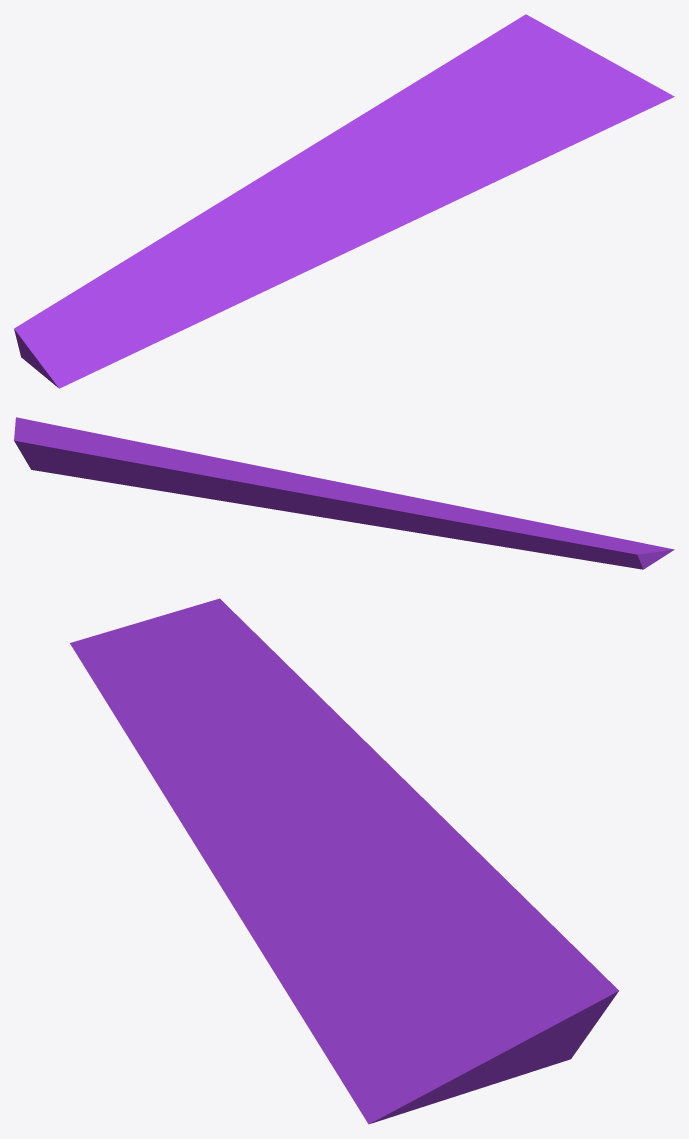
File: Window_144_1_chunks.fbx
The picture shows the model from 3 angles, top to bottom: view 1: azimuth 30°, elevation 25°; view 2: azimuth 150°, elevation 25°; view 3: azimuth 270°, elevation 25°; orthographic projection. The views are drawn at different scales.
Parts seen in each view (by area): view 1: Window_144_1_1, Window_144_1_6, Window_144_1_3, Window_144_1_5, Window_144_1_0, Window_144_1_2; view 2: Window_144_1_1, Window_144_1_2, Window_144_1_6, Window_144_1_3, Window_144_1_5, Window_144_1_0; view 3: Window_144_1_1, Window_144_1_6, Window_144_1_3, Window_144_1_5, Window_144_1_0, Window_144_1_2.
Boxes of the visible parts, x1,y1,x2,y2 form: Window_144_1_1: (14,166,305,388); Window_144_1_6: (388,14,674,132); Window_144_1_3: (292,99,432,222); Window_144_1_5: (393,127,610,224); Window_144_1_0: (194,207,403,324); Window_144_1_2: (279,114,363,178); Window_144_1_1: (315,493,674,569); Window_144_1_2: (22,455,337,519); Window_144_1_6: (14,417,191,473); Window_144_1_3: (181,465,342,493); Window_144_1_5: (86,431,308,477); Window_144_1_0: (306,475,528,520); Window_144_1_1: (70,598,426,828); Window_144_1_6: (338,885,618,1124); Window_144_1_3: (248,814,511,926); Window_144_1_5: (237,903,416,1074); Window_144_1_0: (135,748,324,912); Window_144_1_2: (392,801,595,1069).
Bounding box in the file's own units: 1036 × 138 × 422.
